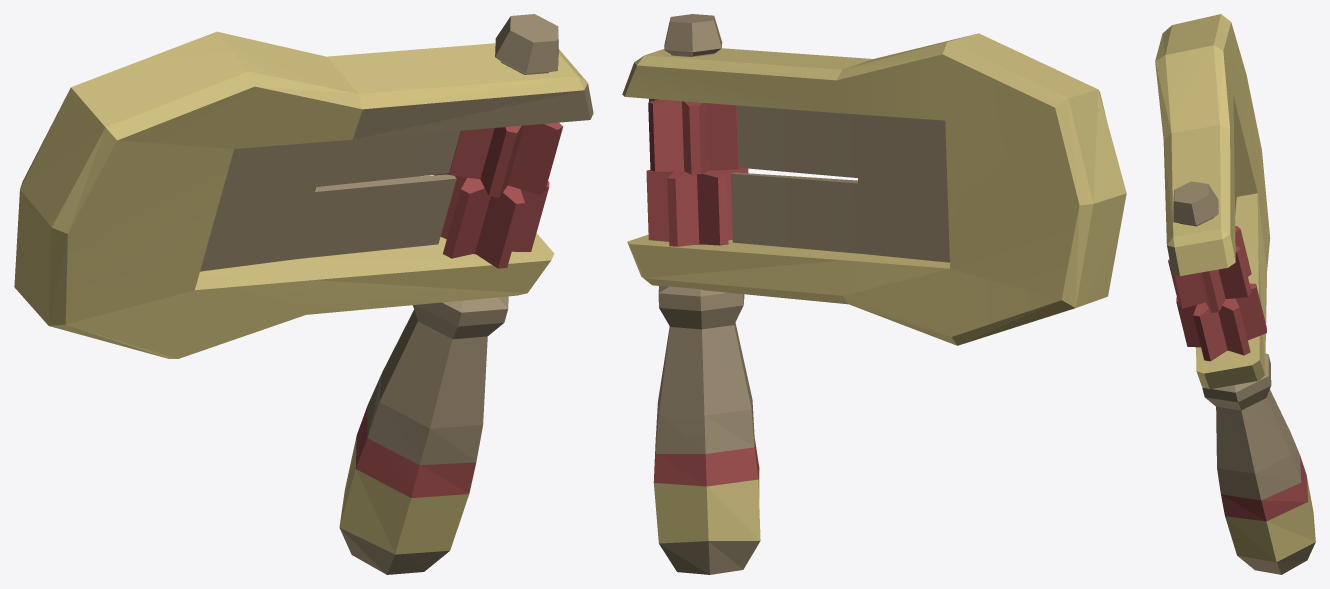
The model's file is trinketHorn2.fbx.
The picture shows the model from 3 angles, left to right: view 1: azimuth 30°, elevation 25°; view 2: azimuth 150°, elevation 25°; view 3: azimuth 270°, elevation 25°; orthographic projection. The views are drawn at different scales.
Visible parts, largest first — view 1: trinketHorn2; view 2: trinketHorn2; view 3: trinketHorn2.
Part boxes in pixels (bbox=[...]): trinketHorn2: bbox=[14, 14, 593, 574]; trinketHorn2: bbox=[622, 14, 1126, 574]; trinketHorn2: bbox=[1155, 14, 1315, 574].
Size of the model in its own units: 1.25 by 1.37 by 0.4513.
